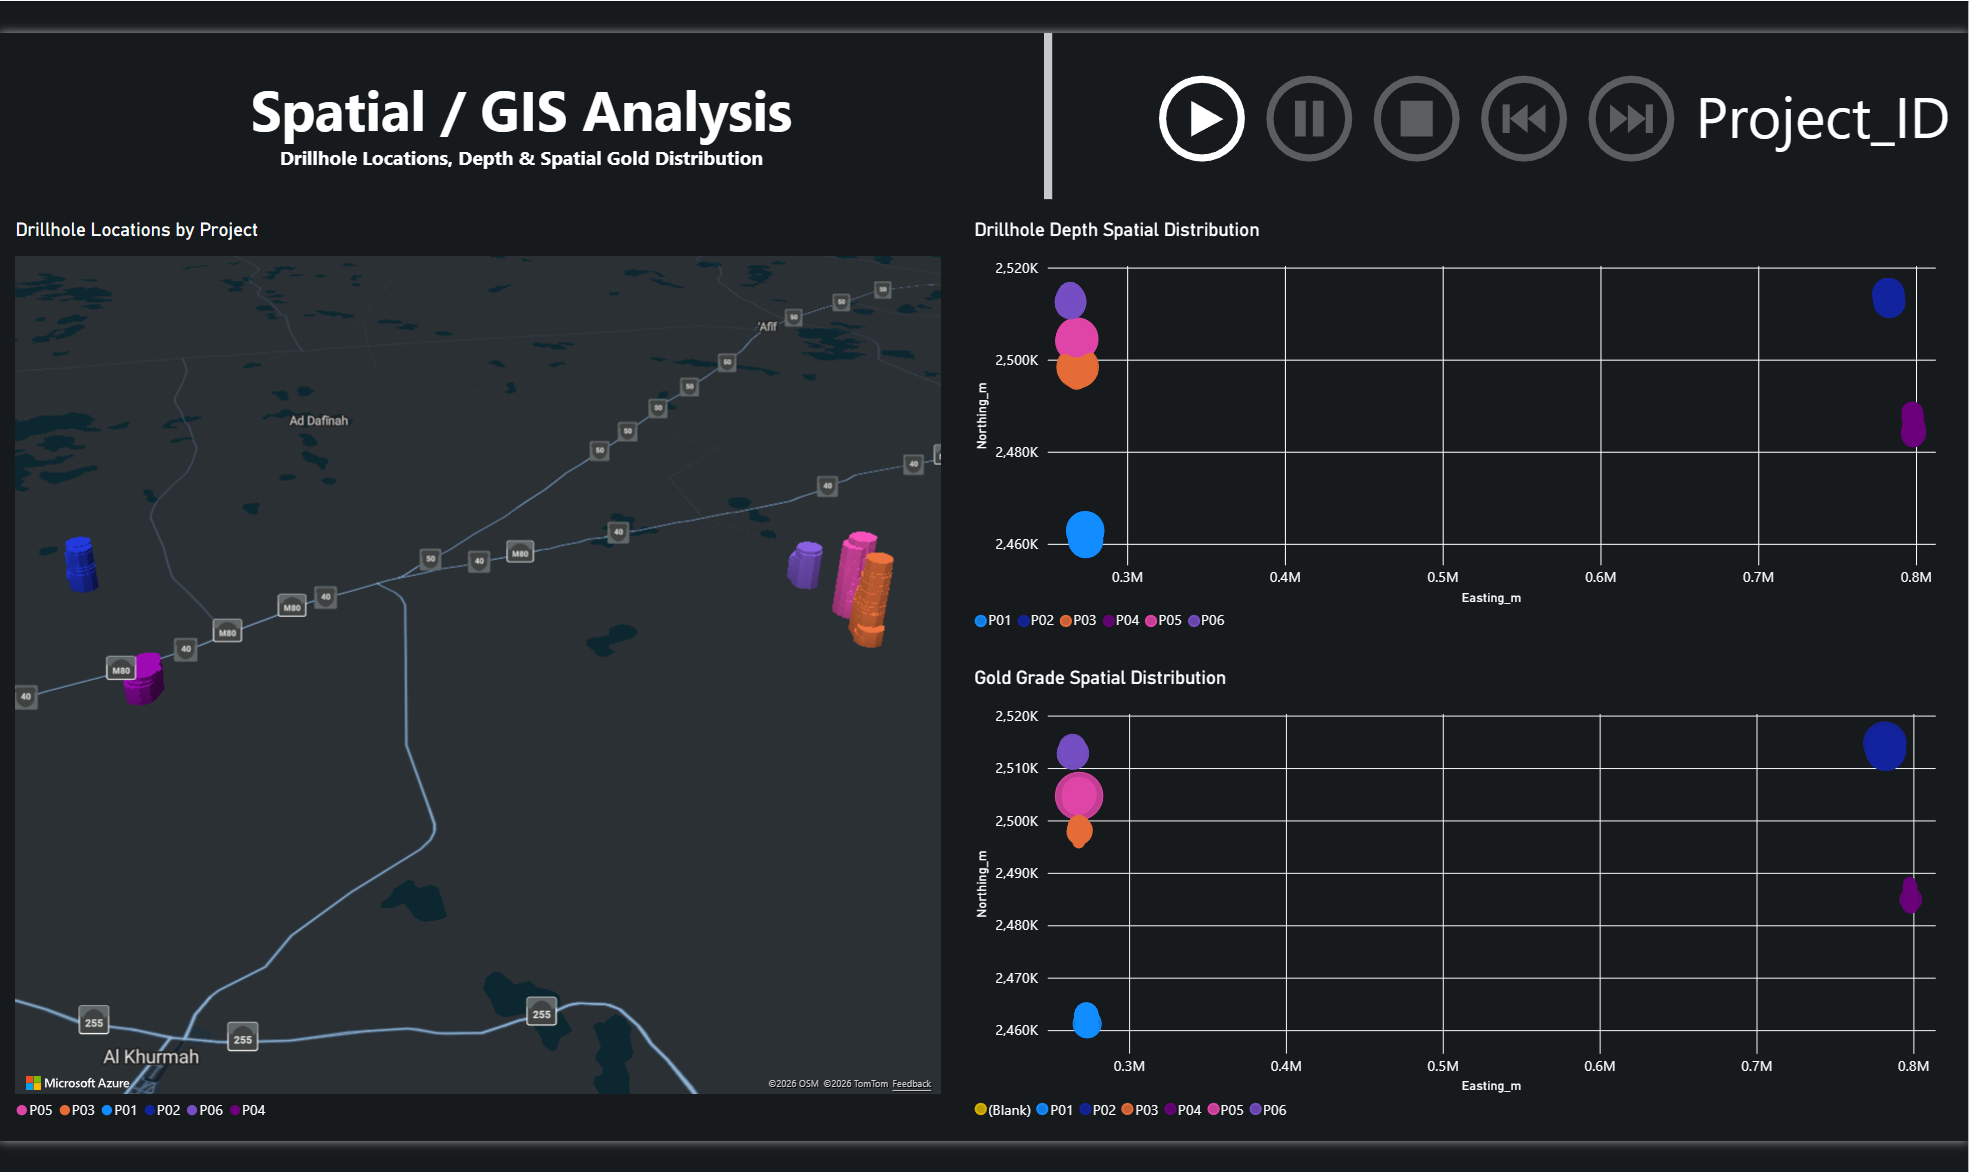

This screenshot's page, from the dashboard's own definition file:
{"tool":"powerbi","page":{"name":"Spatial / GIS Analysis","canvas":[1920,1080],"ordinal":3},"visuals":[{"type":"scatterChart","title":"Gold Grade Spatial Distribution","fields":{"Series":["Drillholes_Map.Project_ID"],"Size":["Max(mining_geology_project intercepts.Au_g_t)"],"X":["mining_geology_project drillholes.Easting_m"],"Y":["mining_geology_project drillholes.Northing_m"]},"box":[935.2,603.9,984.8,476.2],"z":3000},{"type":"scatterChart","title":"Drillhole Depth Spatial Distribution","fields":{"Series":["Drillholes_Map.Project_ID"],"Size":["Max(Drillholes_Map.Total_Depth_m)"],"X":["mining_geology_project drillholes.Easting_m"],"Y":["mining_geology_project drillholes.Northing_m"]},"box":[935.1,166.7,984.9,436.9],"z":4000},{"type":"textbox","box":[0,0,1026.9,166.6],"z":5000},{"type":"azureMap","title":"Drillhole Locations by Project","fields":{"Series":["Drillholes_Map.Project_ID"],"Size":["Max(Drillholes_Map.Total_Depth_m)"],"X":["Drillholes_Map.Longitude"],"Y":["Drillholes_Map.Latitude"]},"box":[0,166.6,935,913.5],"z":6000},{"type":"PBI_CV_16948668_E17D_454B_8664_2F2C470EA8C1","fields":{"category":["Drillholes_Map.Project_ID"]},"box":[1131.2,0,788.8,166.6],"z":7000}]}

Visuals, with their boxes on the page's 1920x1080 design canvas (x1, y1, x2, y2). These are canvas units, not pixel positions in the 1969x1172 screenshot, which may show the page scaled, cropped or inside an application window:
"Gold Grade Spatial Distribution" scatterChart: [x1=935, y1=604, x2=1920, y2=1080]
"Drillhole Depth Spatial Distribution" scatterChart: [x1=935, y1=167, x2=1920, y2=604]
textbox: [x1=0, y1=0, x2=1027, y2=167]
"Drillhole Locations by Project" azureMap: [x1=0, y1=167, x2=935, y2=1080]
PBI_CV_16948668_E17D_454B_8664_2F2C470EA8C1 - Drillholes_Map.Project_ID: [x1=1131, y1=0, x2=1920, y2=167]
